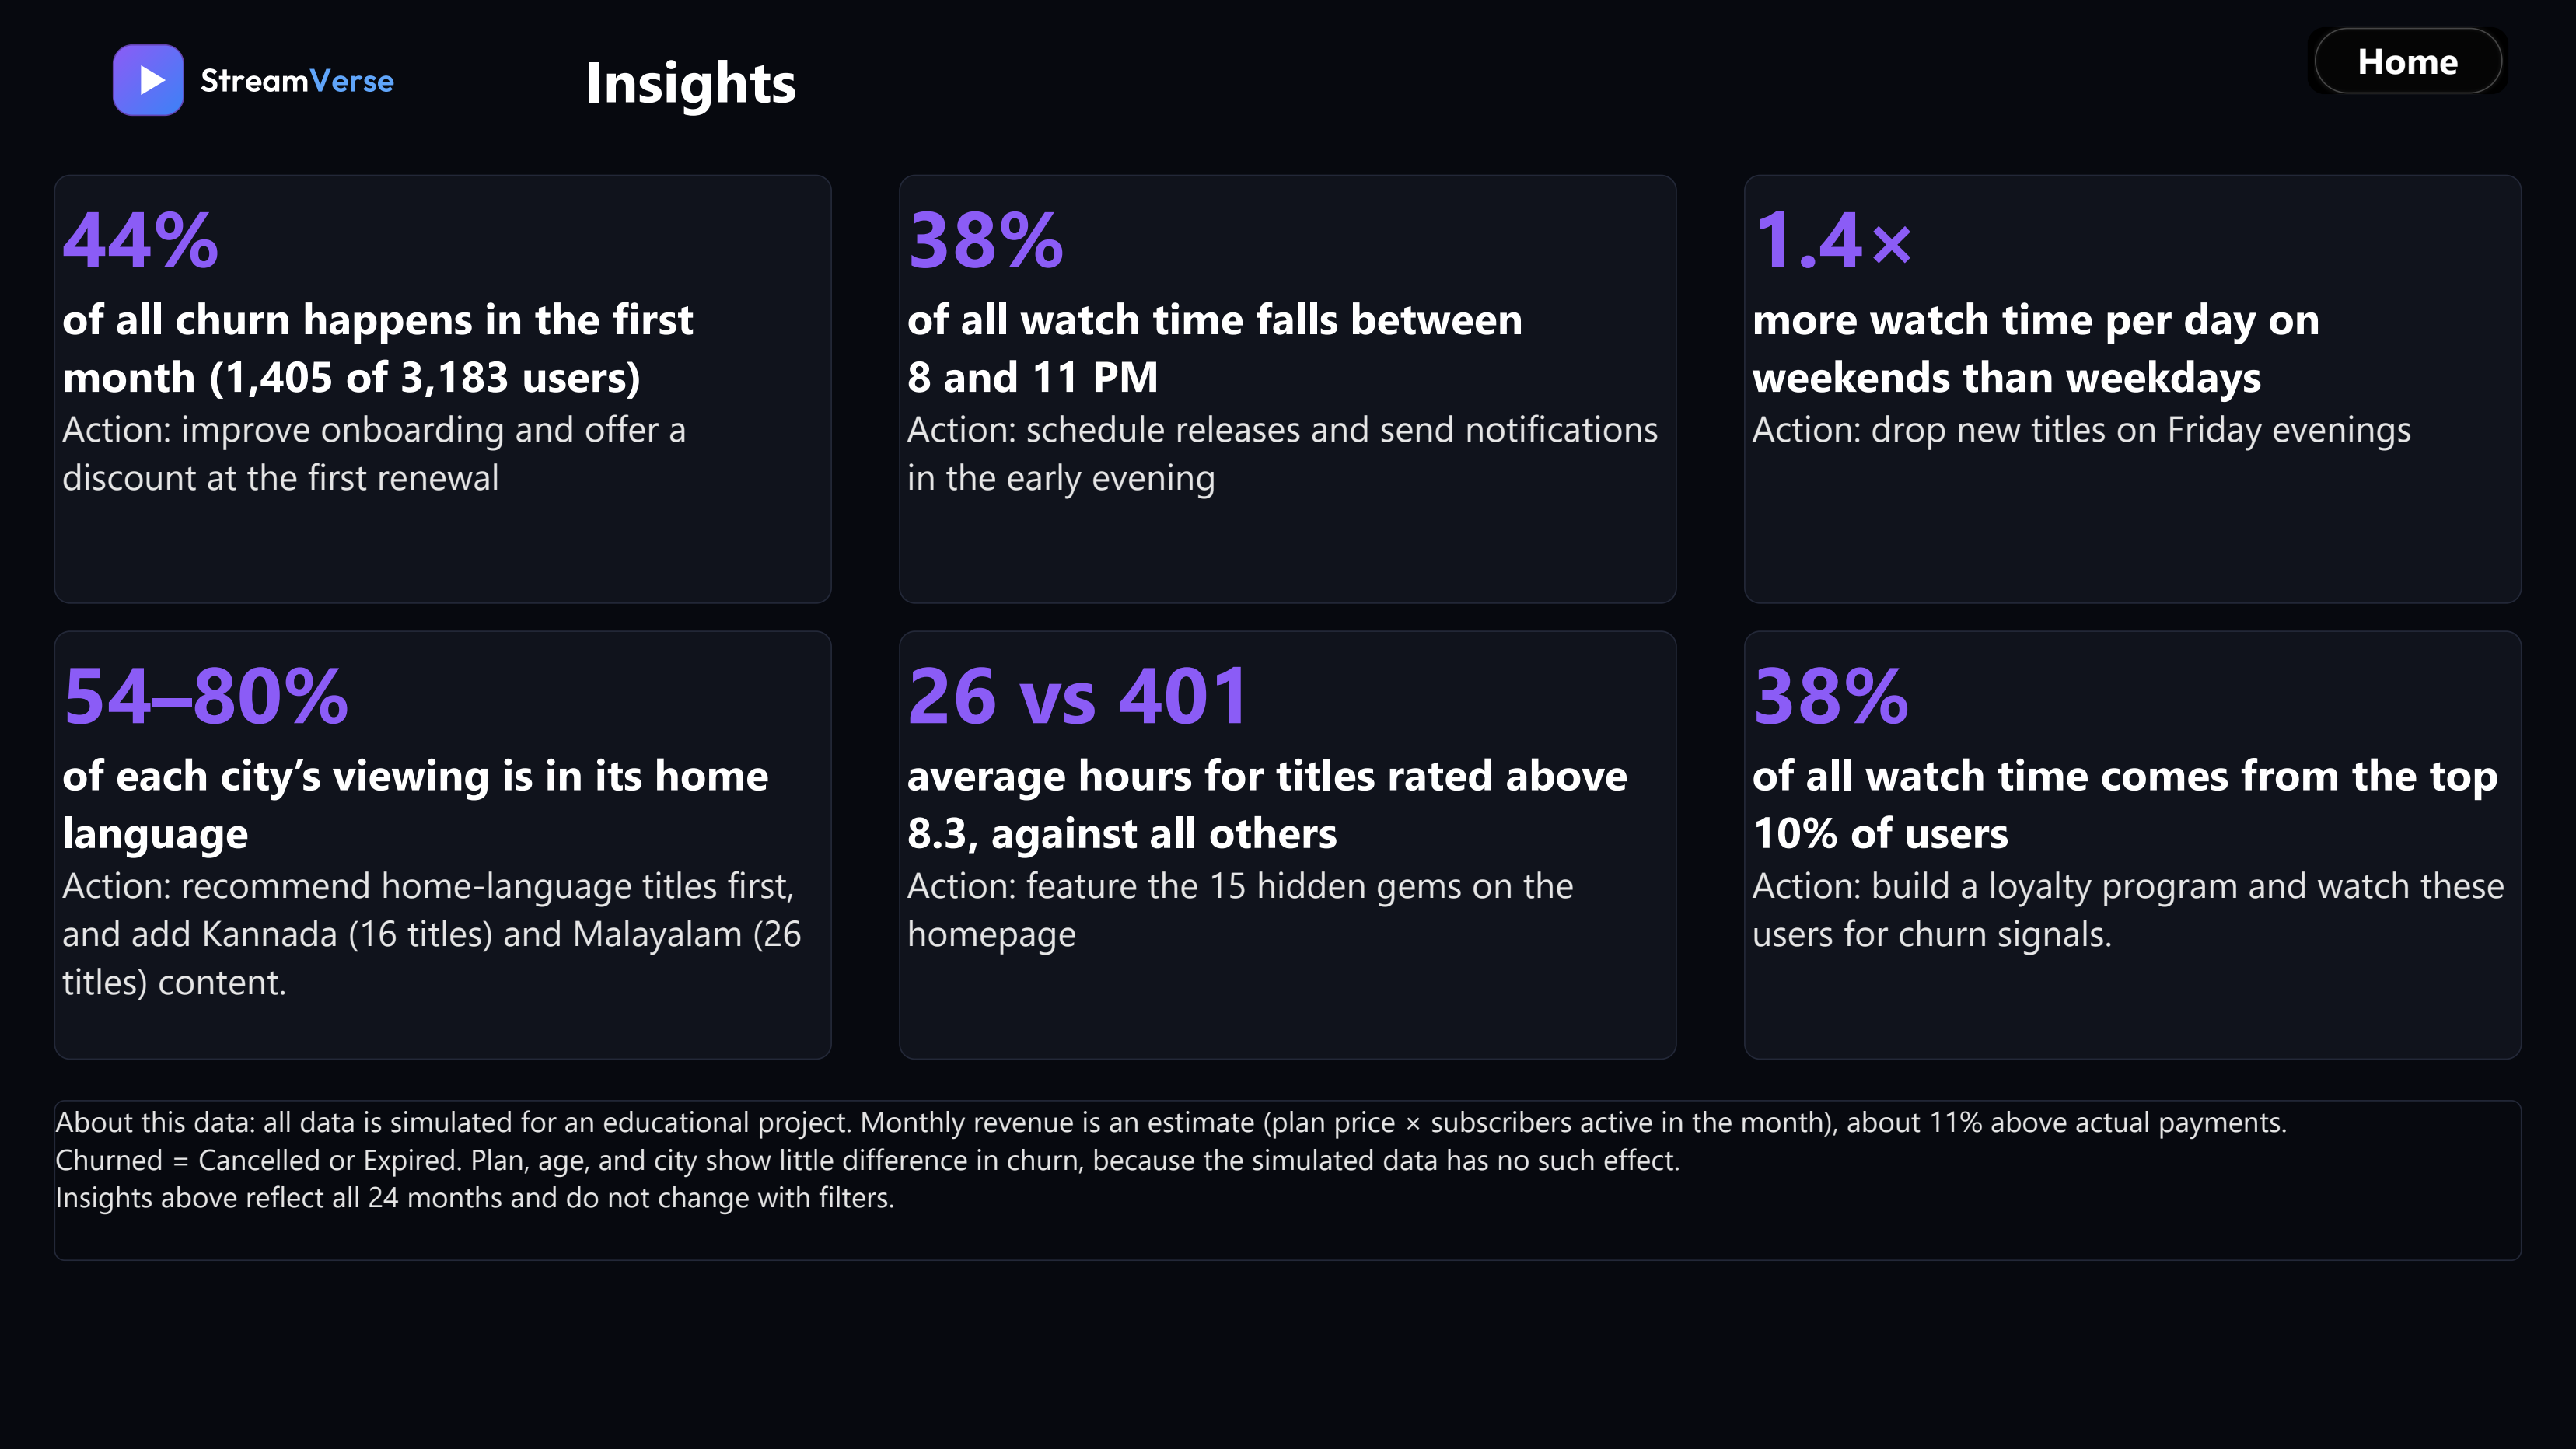

The page's visual inventory and layout, read from the dashboard file:
{"tool":"powerbi","page":{"name":"Insights","canvas":[1920,1080],"ordinal":5},"visuals":[{"type":"image","box":[40,30,300,59],"z":0},{"type":"actionButton","box":[1720,20,150,50],"z":1000},{"type":"textbox","box":[435.7,30,446.7,60],"z":2000},{"type":"textbox","box":[40,130,580,320],"z":3000},{"type":"textbox","box":[670,130,580,320],"z":4000},{"type":"textbox","box":[1300,130,580,320],"z":5000},{"type":"textbox","box":[40,470,580,320],"z":6000},{"type":"textbox","box":[670.4,470,580,320],"z":7000},{"type":"textbox","box":[1300.5,470,580,320],"z":8000},{"type":"textbox","box":[40,820,1840,120],"z":9000}]}

Visuals, with their boxes in screenshot pixels (x1, y1, x2, y2), scaled from the page's 1920x1080 canvas onto the 2576x1449 screenshot:
image: (54, 40, 456, 120)
actionButton: (2308, 27, 2509, 94)
textbox: (585, 40, 1184, 120)
textbox: (54, 174, 832, 604)
textbox: (899, 174, 1677, 604)
textbox: (1744, 174, 2522, 604)
textbox: (54, 630, 832, 1060)
textbox: (900, 630, 1678, 1060)
textbox: (1745, 630, 2523, 1060)
textbox: (54, 1100, 2522, 1261)
